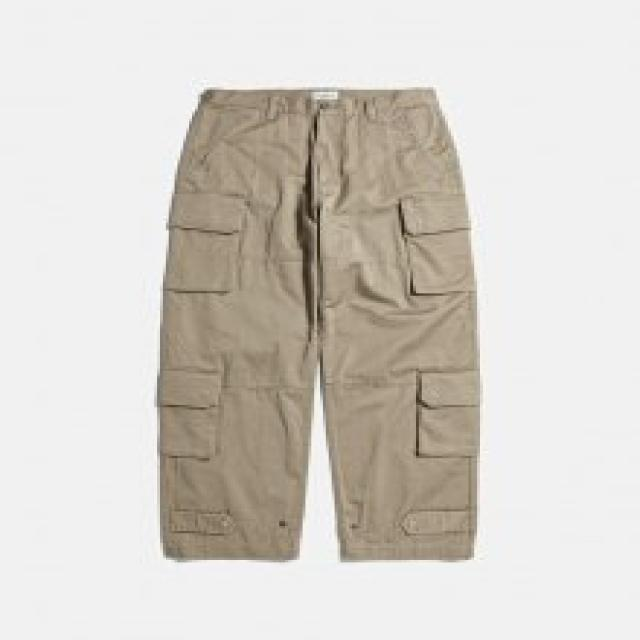long-pants: (148, 85, 482, 565)
